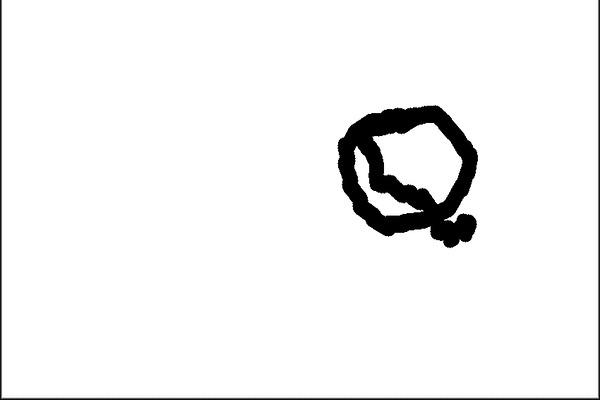Q: (325, 89, 486, 263)
